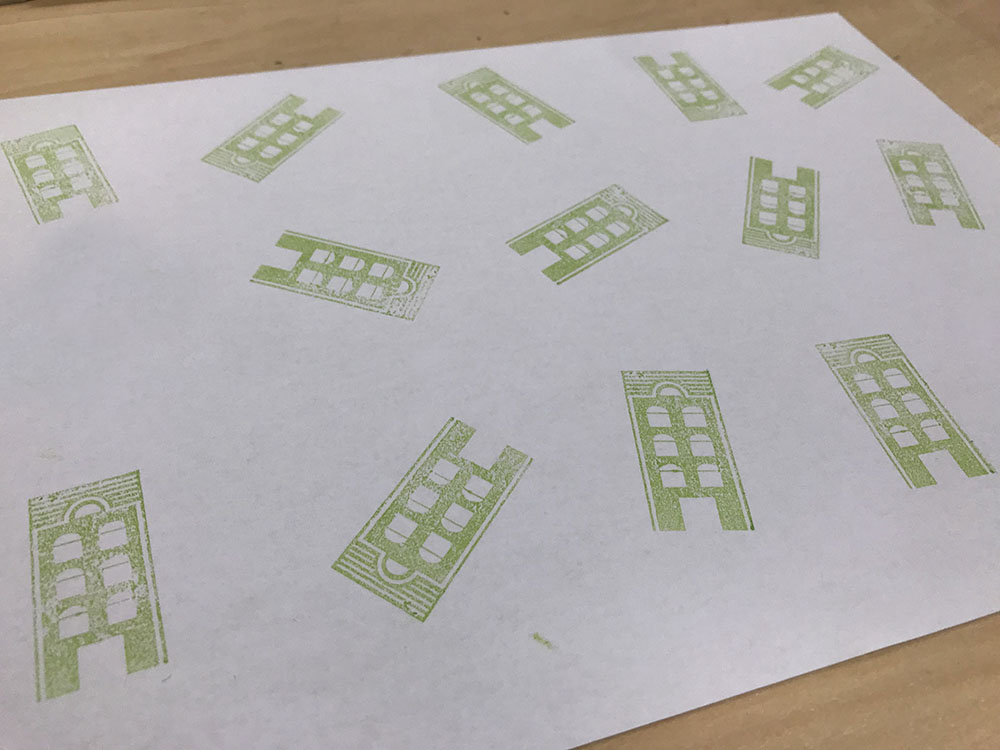build: (303, 405, 548, 638), (15, 445, 173, 725), (797, 316, 1000, 505), (609, 344, 779, 562), (221, 212, 455, 336), (486, 165, 687, 298), (187, 82, 352, 205), (719, 140, 840, 279), (1, 113, 127, 246), (422, 55, 576, 152), (866, 133, 998, 243), (623, 38, 757, 133), (761, 34, 892, 117)
